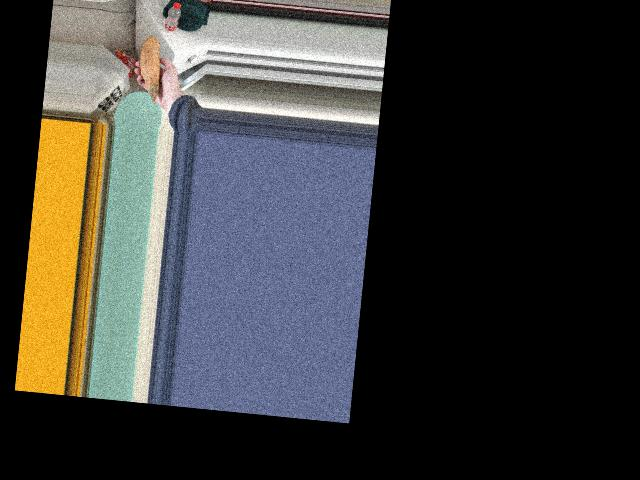sweet_potato: (136, 40, 165, 96)
